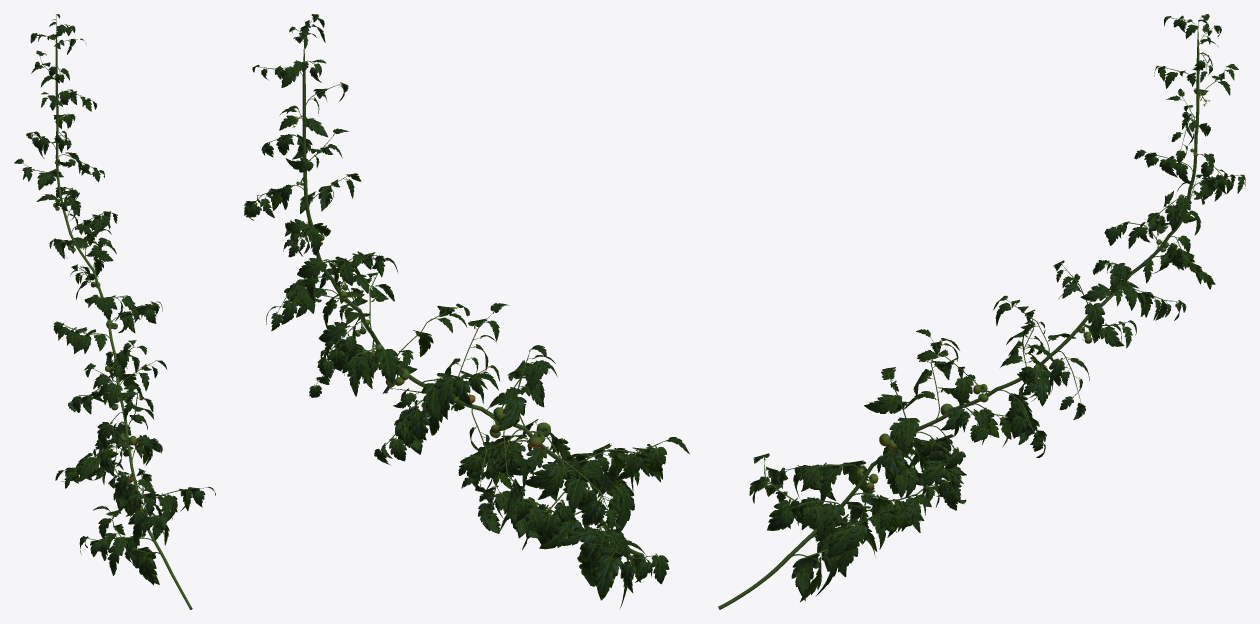
The model's file is tomato_022.glb.
3 views of the same model, side by side, from view 1: azimuth 30°, elevation 25°; view 2: azimuth 150°, elevation 25°; view 3: azimuth 270°, elevation 25° (orthographic). The views are drawn at different scales.
Parts seen in each view (by area): view 1: tomato_022; view 2: tomato_022; view 3: tomato_022.
Boxes of the visible parts, x1,y1,x2,y2 form: tomato_022: (14,14,215,609); tomato_022: (244,14,689,608); tomato_022: (718,14,1245,609).
Bounding box in the file's own units: 0.9403 × 2.74 × 2.1.
16 materials, 15 textured.
